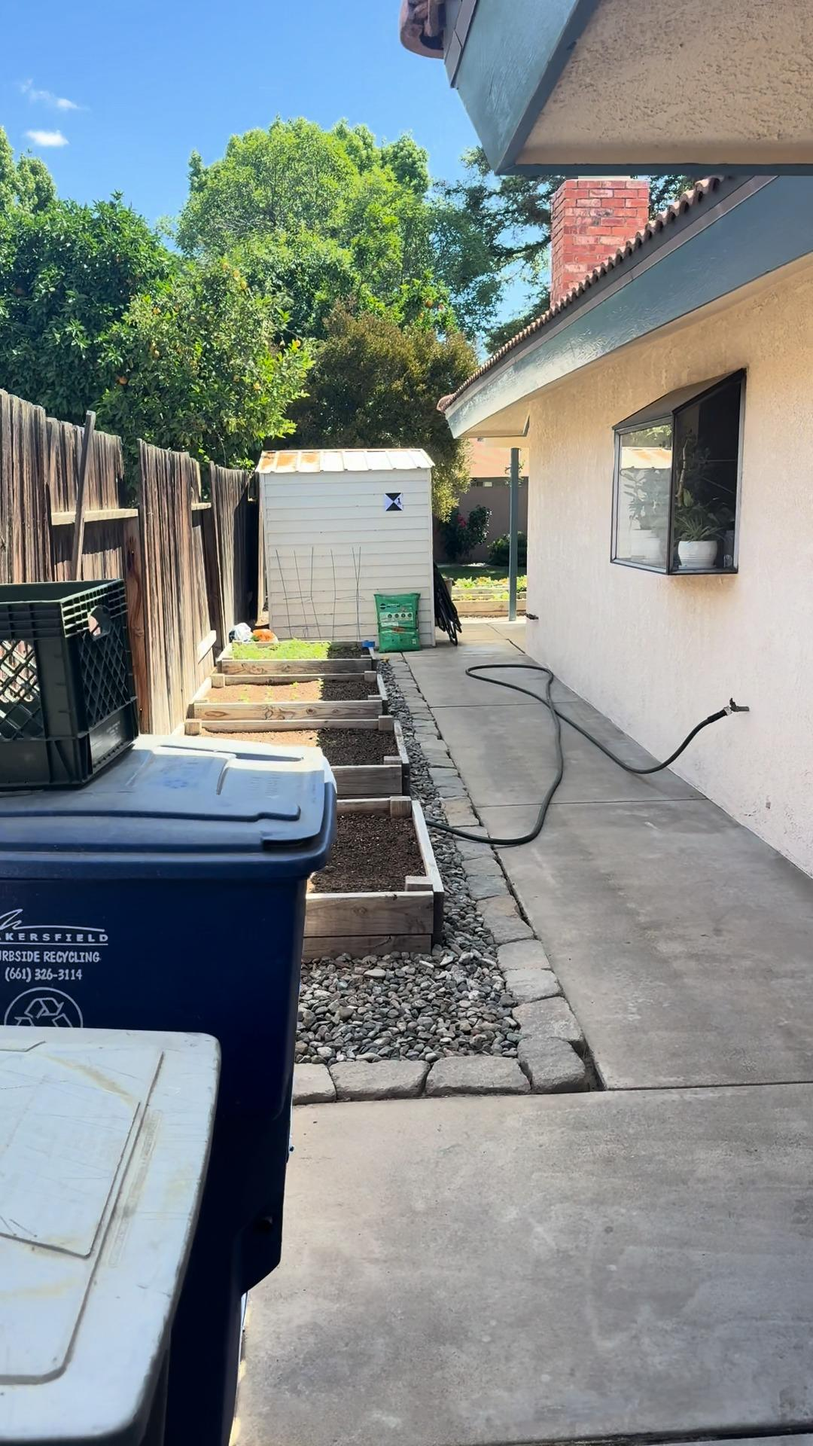target1: (382, 490, 406, 513)
